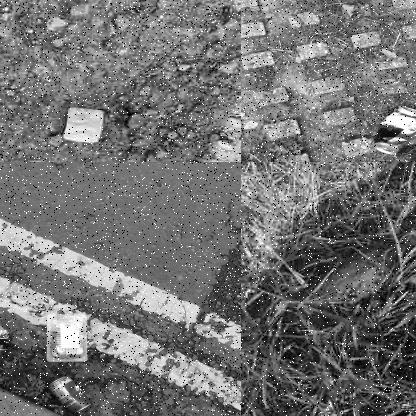glass: (300, 212, 415, 327)
metal: (374, 101, 415, 156), (49, 372, 93, 415), (0, 312, 12, 359)
plastic: (44, 312, 90, 363), (63, 103, 101, 143)
